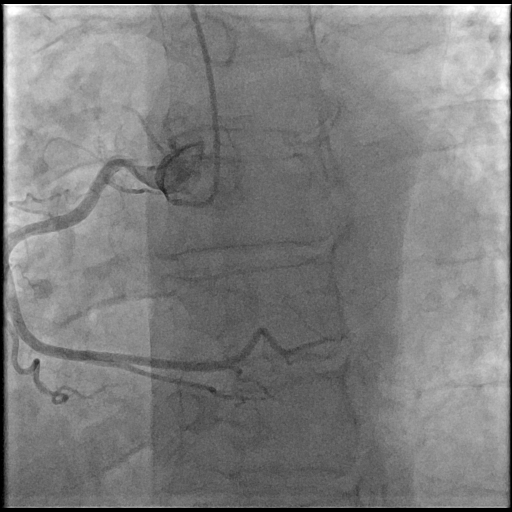RCA: (4, 158, 232, 371)
catherter: (189, 5, 221, 206)
